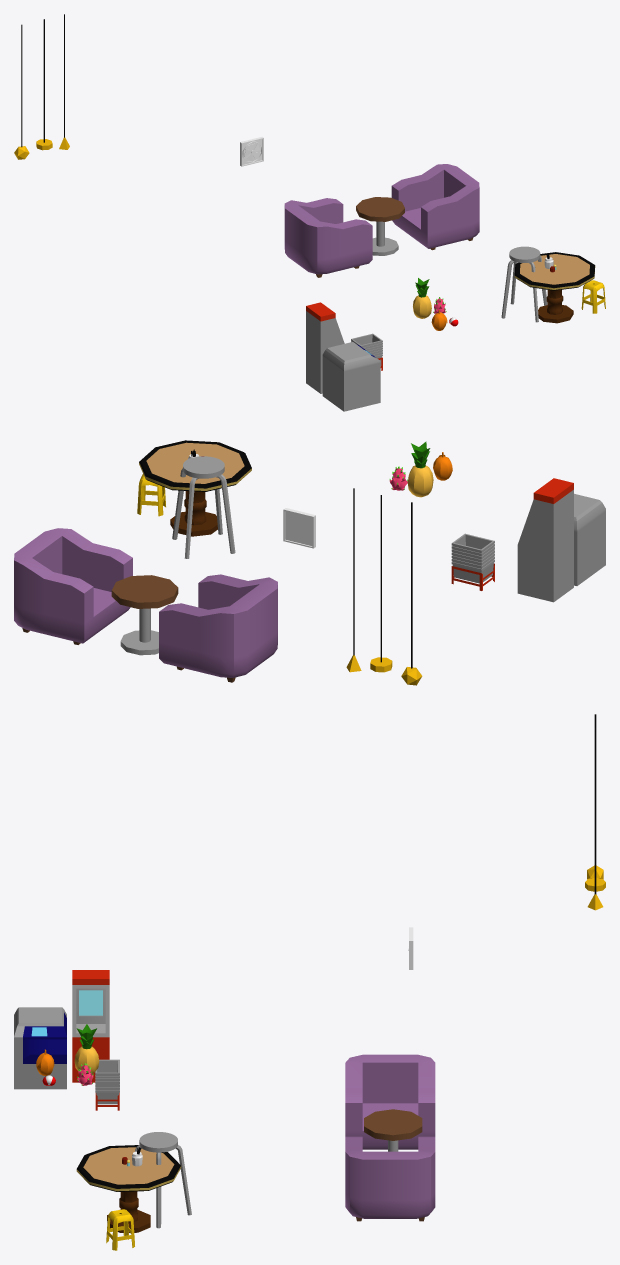
3 renders of one model, top to bottom at view 1: azimuth 30°, elevation 25°; view 2: azimuth 150°, elevation 25°; view 3: azimuth 270°, elevation 25°, orthographic. The views are drawn at different scales.
Parts seen in each view (by area): view 1: sofafabric, printer_solo, chopsticksjar, grey, barstool_solo, sofafeet, fancylights_solo, wallfan_solo, metal, simplepineapple_solo; view 2: sofafabric, grey, chopsticksjar, printer_solo, barstool_solo, sofafeet, fancylights_solo, shoppingbaskets, wallfan_solo, metal, simplepineapple_solo, oreo (+3 smaller); view 3: sofafabric, chopsticksjar, printer_solo, sofafeet, barstool_solo, grey, oreo, fancylights_solo, shoppingbaskets, plasticstool_solo, simplepineapple_solo.
Part boxes in pixels (bbox=[...]): sofafabric: bbox=[284, 164, 479, 274]; printer_solo: bbox=[322, 342, 380, 411]; chopsticksjar: bbox=[514, 252, 595, 323]; grey: bbox=[306, 311, 344, 393]; barstool_solo: bbox=[501, 246, 547, 322]; sofafeet: bbox=[316, 197, 472, 277]; fancylights_solo: bbox=[14, 14, 69, 159]; wallfan_solo: bbox=[240, 136, 263, 166]; metal: bbox=[372, 221, 398, 255]; simplepineapple_solo: bbox=[413, 278, 431, 318]; sofafabric: bbox=[14, 528, 277, 677]; grey: bbox=[517, 489, 573, 602]; chopsticksjar: bbox=[139, 440, 251, 536]; printer_solo: bbox=[574, 493, 605, 585]; barstool_solo: bbox=[172, 456, 235, 558]; sofafeet: bbox=[22, 575, 235, 682]; fancylights_solo: bbox=[346, 488, 422, 685]; shoppingbaskets: bbox=[451, 533, 494, 583]; wallfan_solo: bbox=[283, 508, 315, 548]; metal: bbox=[120, 608, 158, 655]; simplepineapple_solo: bbox=[407, 441, 433, 497]; oreo: bbox=[533, 478, 573, 503]; sofafabric: bbox=[345, 1054, 435, 1218]; chopsticksjar: bbox=[77, 1145, 180, 1232]; printer_solo: bbox=[14, 1007, 66, 1089]; sofafeet: bbox=[356, 1109, 424, 1221]; barstool_solo: bbox=[135, 1132, 191, 1228]; grey: bbox=[72, 985, 109, 1037]; oreo: bbox=[72, 970, 109, 1082]; fancylights_solo: bbox=[585, 714, 605, 910]; shoppingbaskets: bbox=[95, 1059, 119, 1104]; plasticstool_solo: bbox=[106, 1209, 134, 1250]; simplepineapple_solo: bbox=[74, 1024, 99, 1073].
Size of the model in its own units: 3564 by 2055 by 3676.
